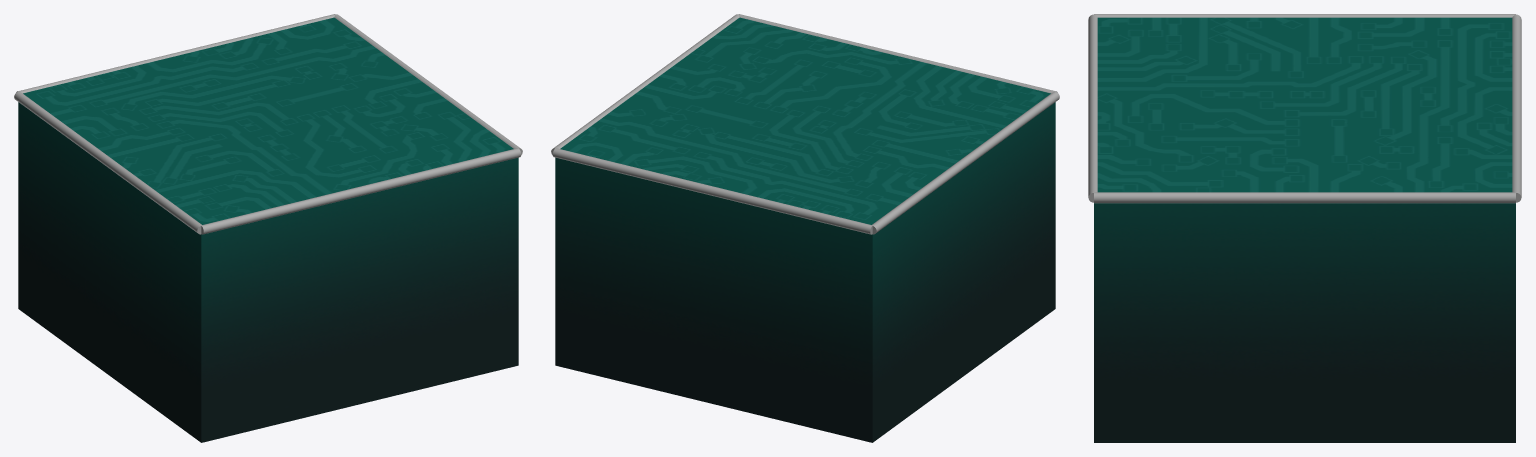
Rendered from NodeBlock.fbx.
3 renders of one model, left to right at view 1: azimuth 30°, elevation 25°; view 2: azimuth 150°, elevation 25°; view 3: azimuth 270°, elevation 25°, orthographic. The views are drawn at different scales.
Visible parts, largest first — view 1: Block, LightLeft, LightUp, LightRight, LightDown; view 2: Block, LightRight, LightUp, LightLeft, LightDown; view 3: Block, LightDown, LightRight, LightLeft, LightUp.
Part boxes in pixels (x1=…): Block: x1=18, y1=17, x2=518, y2=442; LightLeft: x1=201, y1=148, x2=520, y2=234; LightUp: x1=14, y1=91, x2=201, y2=234; LightRight: x1=16, y1=14, x2=335, y2=93; LightDown: x1=334, y1=14, x2=522, y2=155; Block: x1=555, y1=17, x2=1055, y2=442; LightRight: x1=553, y1=148, x2=872, y2=234; LightUp: x1=872, y1=91, x2=1059, y2=234; LightLeft: x1=738, y1=14, x2=1057, y2=93; LightDown: x1=551, y1=14, x2=739, y2=155; Block: x1=1094, y1=17, x2=1515, y2=442; LightDown: x1=1094, y1=192, x2=1515, y2=203; LightRight: x1=1512, y1=14, x2=1521, y2=202; LightLeft: x1=1088, y1=14, x2=1097, y2=202; LightUp: x1=1094, y1=14, x2=1515, y2=17.
Size of the model in its own units: 1.03 by 0.6538 by 1.03.
